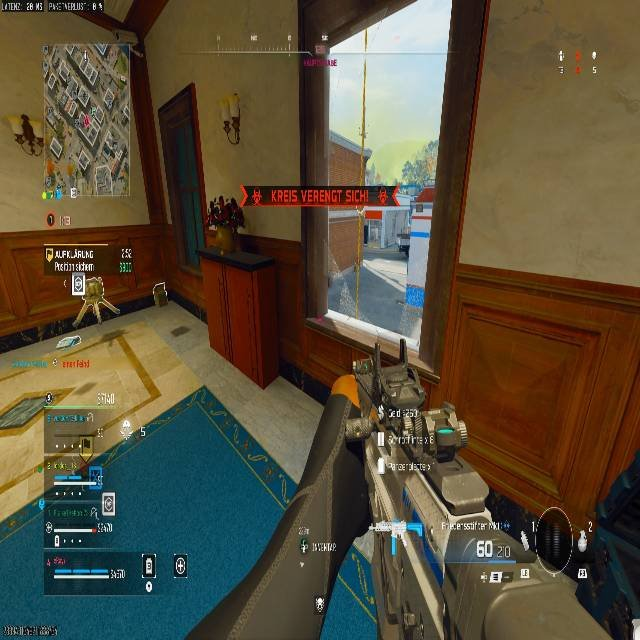player: (66, 271, 120, 325)
